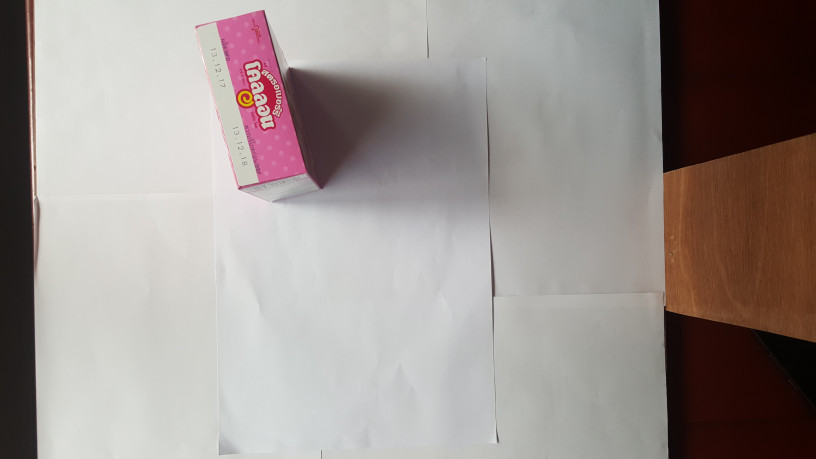collon-strawberry: (195, 8, 324, 205)
